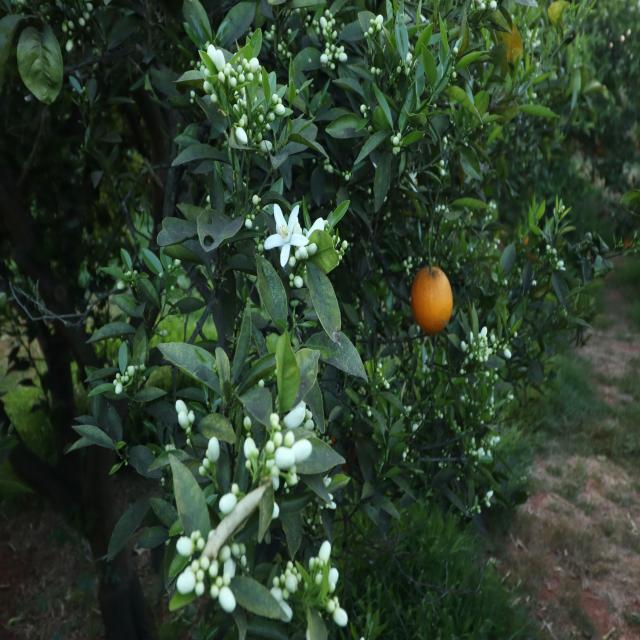Bunga: (175, 526, 242, 614), (266, 203, 316, 294), (310, 541, 352, 638), (268, 413, 308, 487), (314, 7, 350, 80), (206, 50, 264, 88), (273, 567, 307, 625), (240, 413, 264, 490), (463, 330, 515, 362), (228, 92, 251, 150), (260, 94, 283, 152), (174, 399, 194, 438), (110, 368, 144, 390), (200, 437, 217, 480), (217, 487, 240, 517), (404, 52, 416, 77), (390, 132, 402, 156), (370, 17, 385, 33), (361, 103, 368, 121)
Jeruk Sudah Matang: (408, 264, 453, 336)
